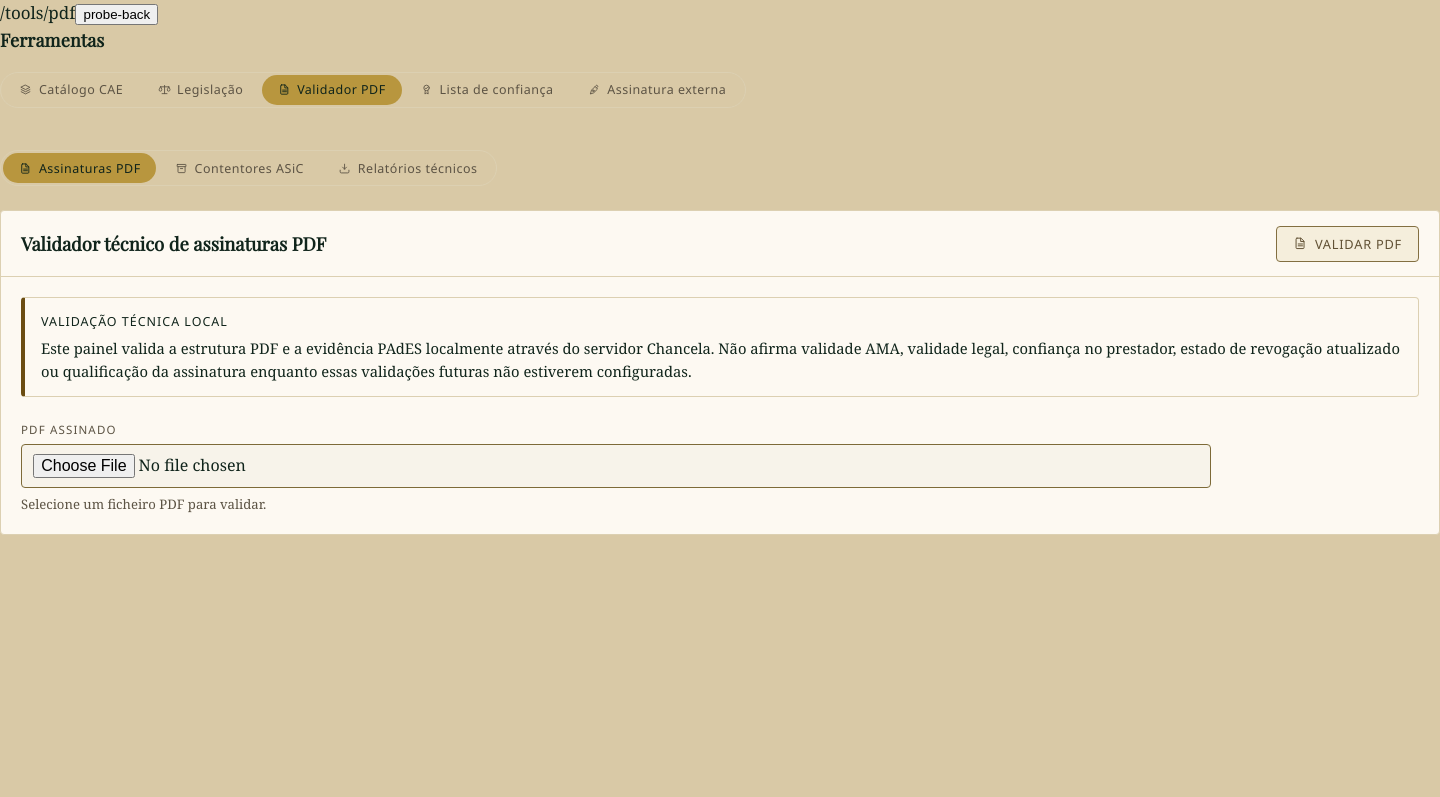
Test: Ferramentas — validador técnico deep-link and Back behaviour › writes the sub-tab segment on switch and drops it again on the default section
The width and height of the screenshot is (1440, 797).
Click the button "Contentores ASiC".
click(240, 168)  # box [159, 153, 320, 183]
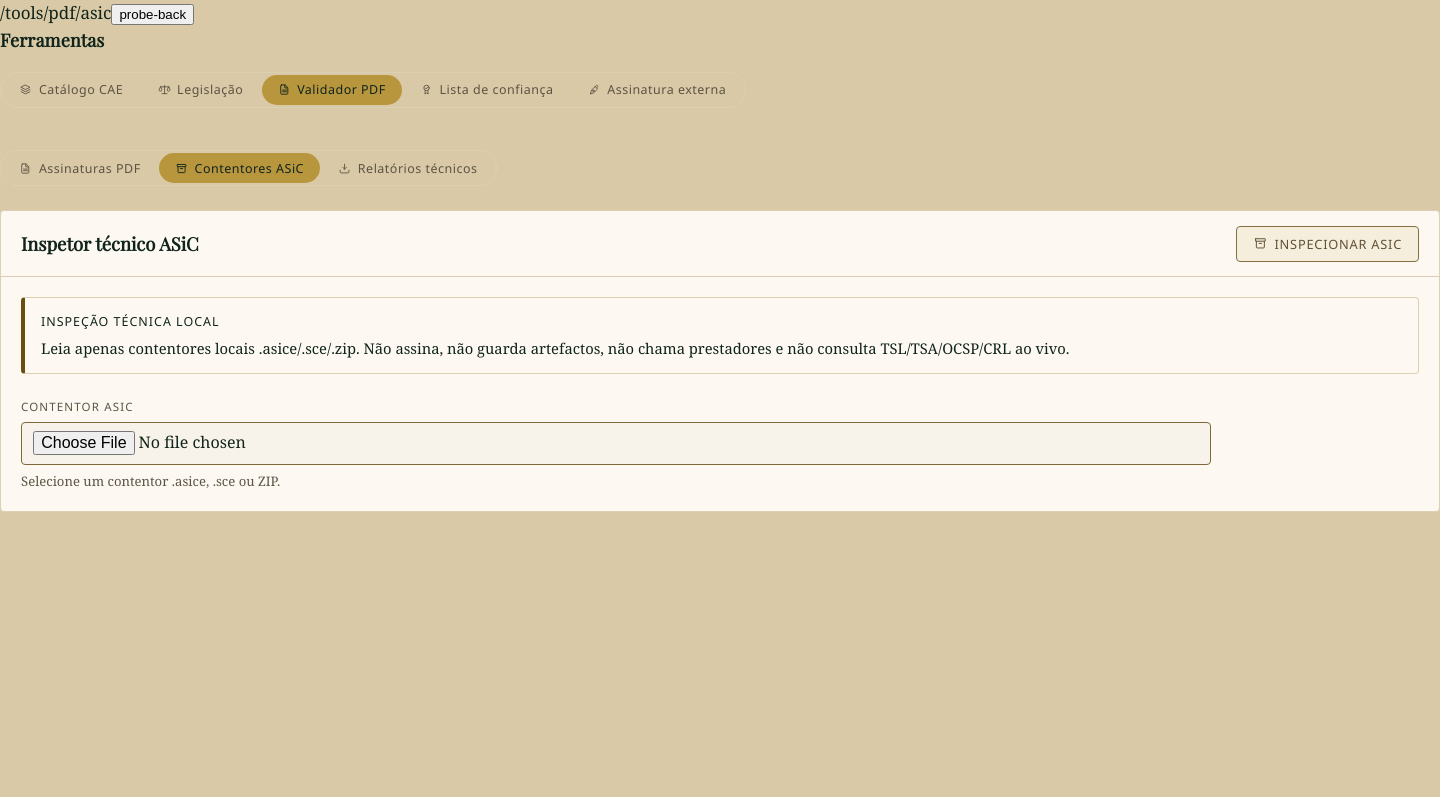
Result: the text with test id "search-probe" reads "/tools/pdf/asic" at [0, 1, 111, 24]
Click the button "Relatórios técnicos".
click(408, 168)  # box [322, 153, 494, 183]
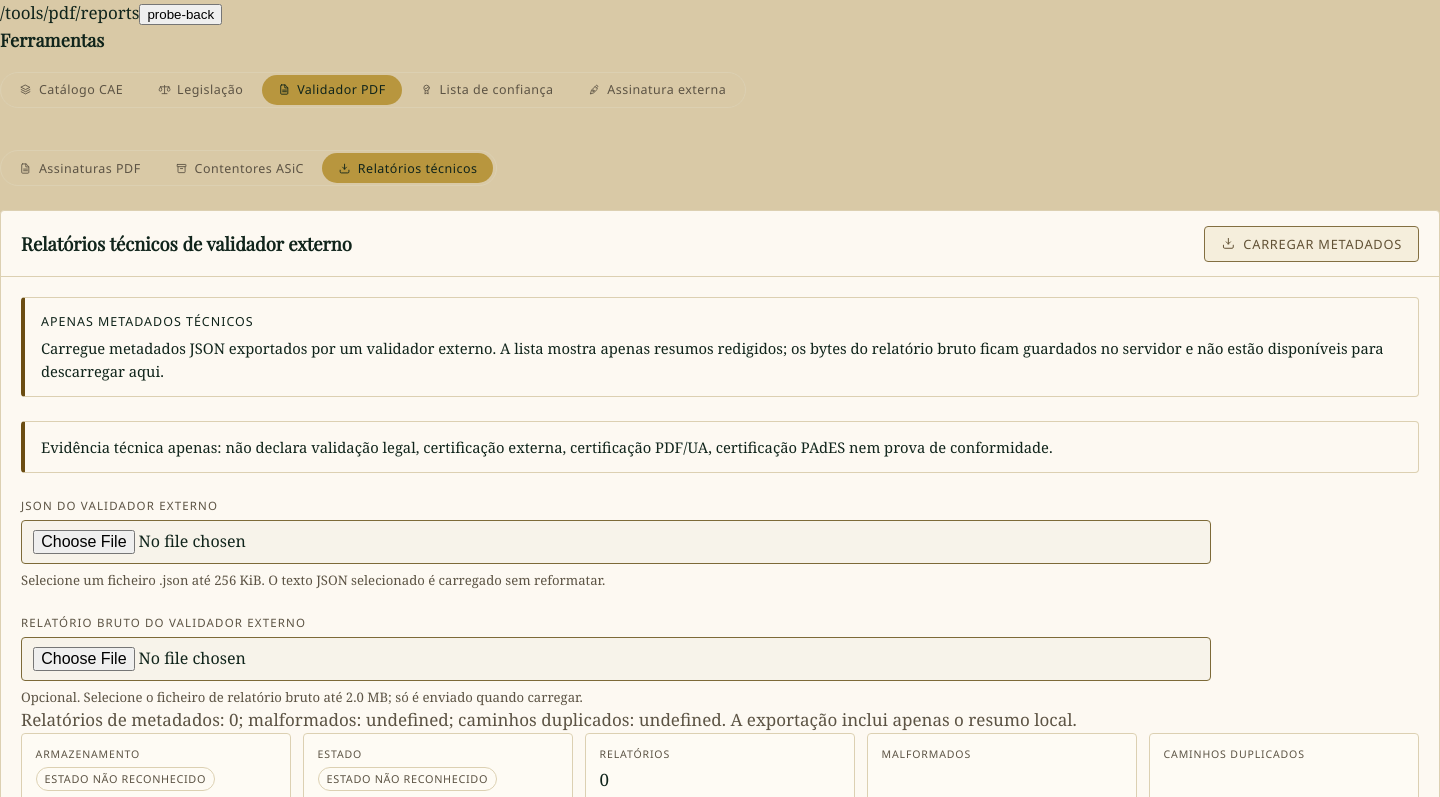
Result: the text with test id "search-probe" reads "/tools/pdf/reports" at [0, 1, 139, 24]
Note: The default section carries no segment, matching the Configurações / livros rule.
Click the button "Assinaturas PDF".
click(80, 168)  # box [3, 153, 157, 183]
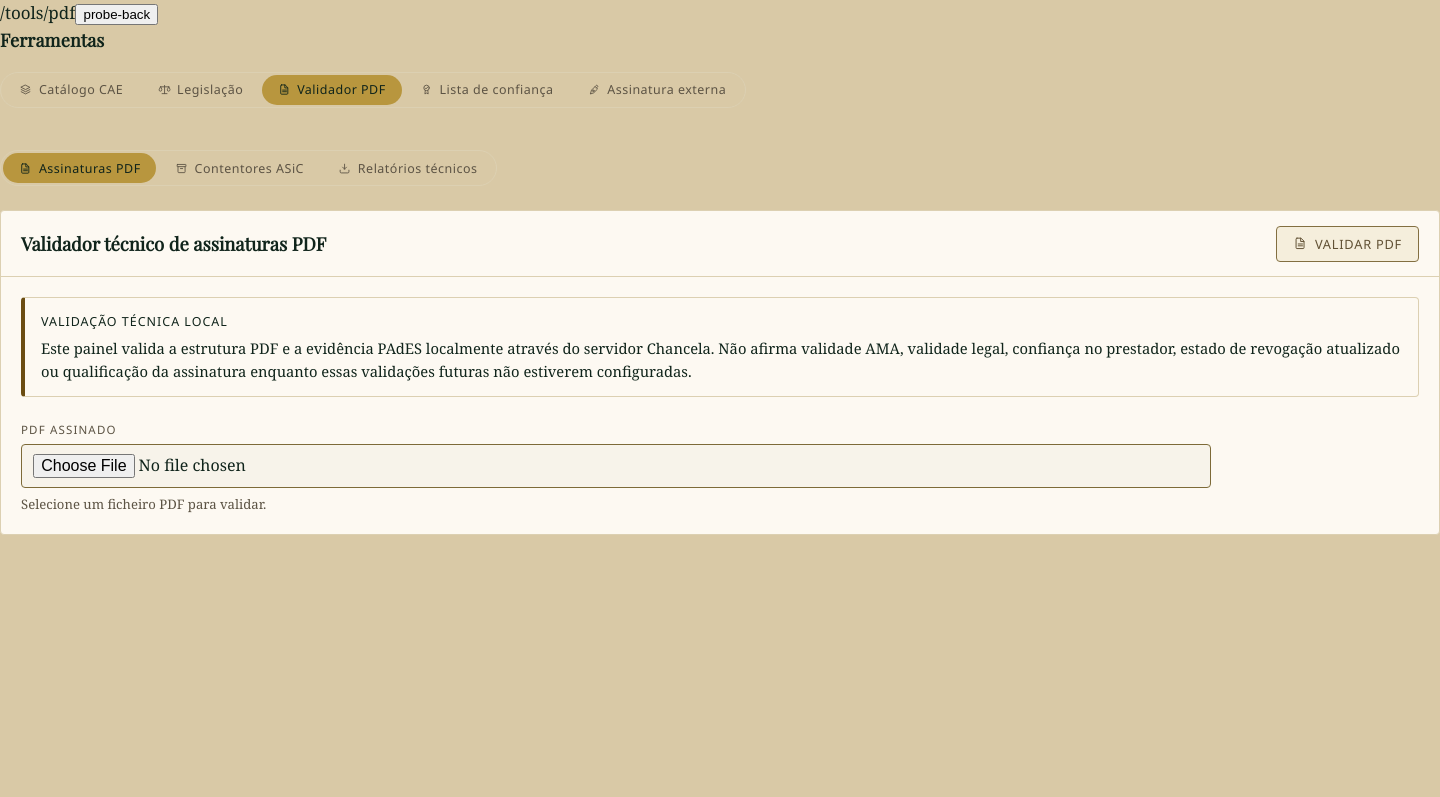
Result: the text with test id "search-probe" reads "/tools/pdf" at [0, 1, 76, 24]
